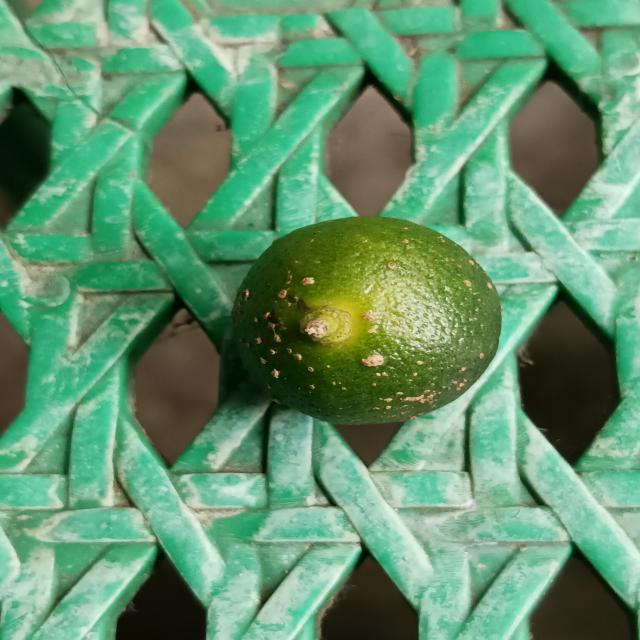scab: (229, 215, 509, 430)
